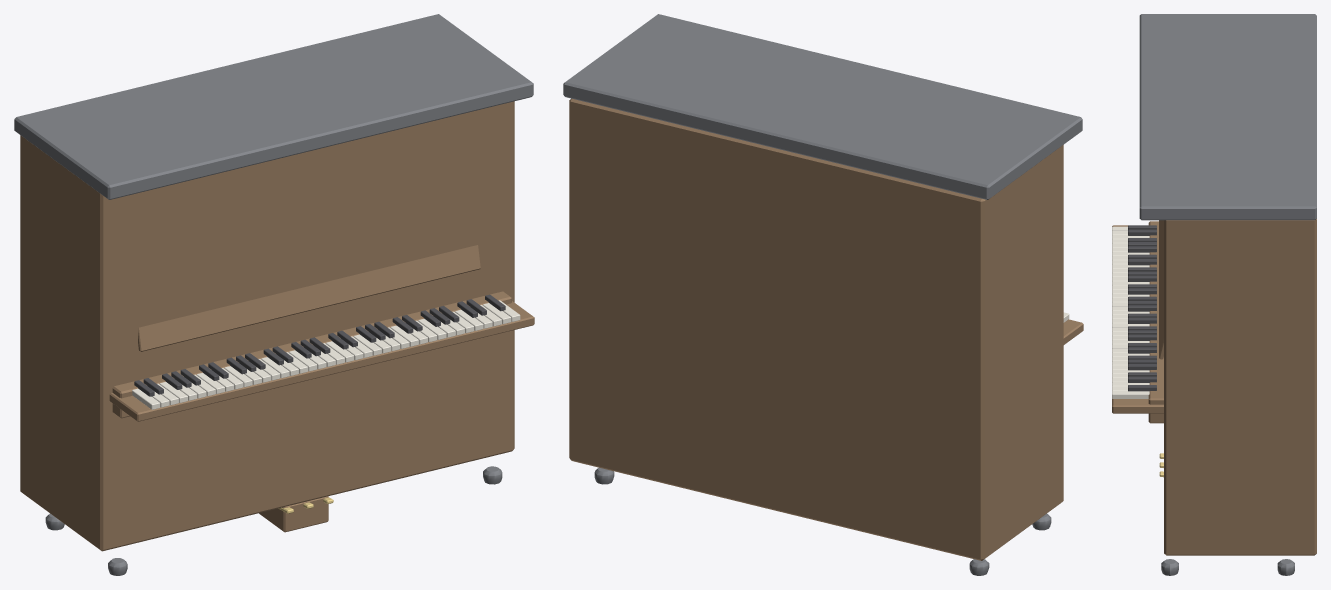
File: music-recording-studio-and-instruments-upright-piano-fab7b3ff__33797.glb
3 views of the same model, side by side, from view 1: azimuth 30°, elevation 25°; view 2: azimuth 150°, elevation 25°; view 3: azimuth 270°, elevation 25° (orthographic). The views are drawn at different scales.
Parts seen in each view (by area): view 1: upright-piano; view 2: upright-piano; view 3: upright-piano.
Boxes of the visible parts, x1=… form: upright-piano: x1=14, y1=14, x2=534, y2=575; upright-piano: x1=563, y1=14, x2=1083, y2=575; upright-piano: x1=1112, y1=14, x2=1316, y2=575.
Bounding box in the file's own units: 1.5 × 1.36 × 0.67.
